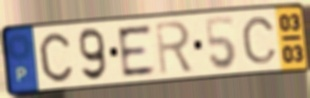5: (203, 13, 240, 73)
9: (77, 26, 109, 83)
C: (240, 15, 280, 66), (37, 30, 74, 84)
E: (115, 22, 158, 79)
R: (153, 19, 196, 78)
